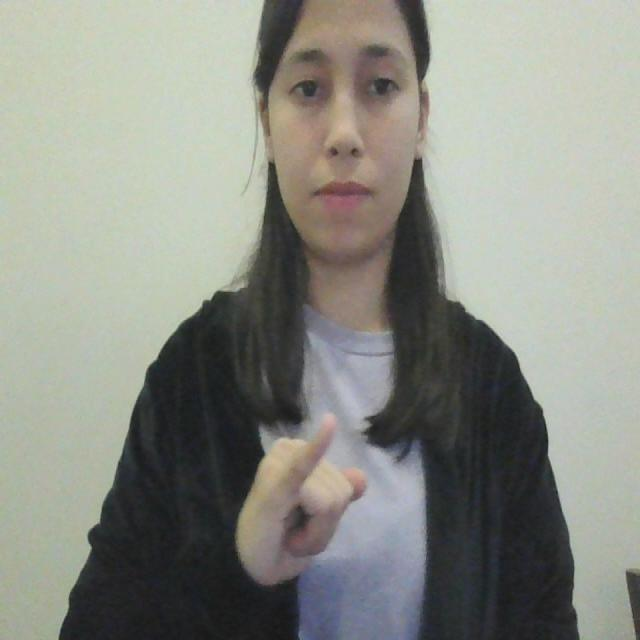kotu: (237, 404, 373, 593)
